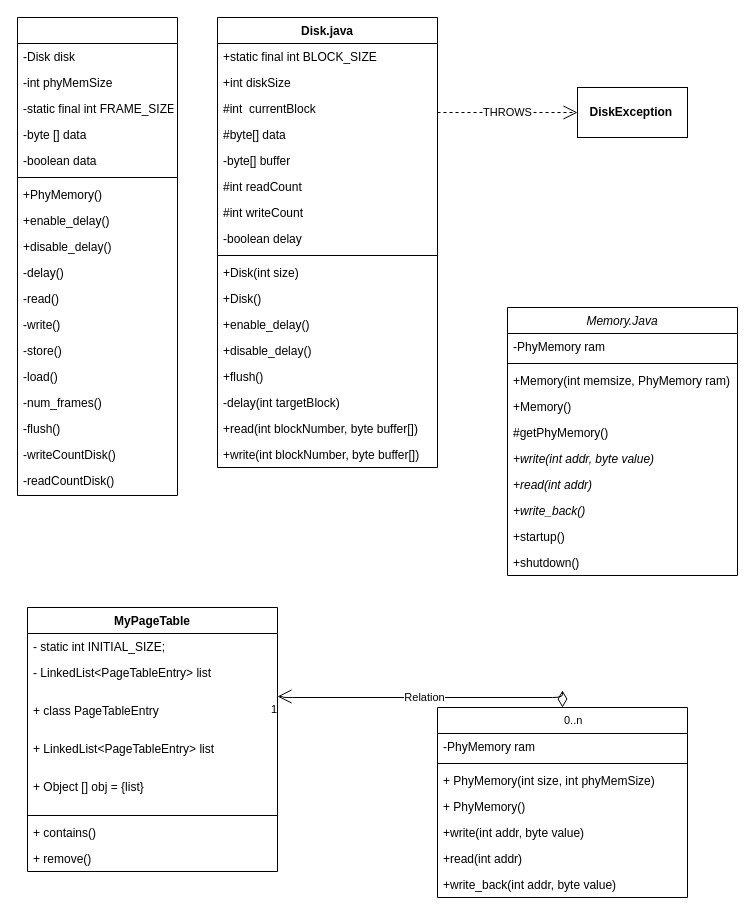
The diagram is 755 pixels wide and 918 high, and some of its shapes have lost their labels. Here are the shapes that lost their labels. From the top down, the box of each, then its label:
(16, 16, 178, 496): PhyMemory.java
(436, 706, 688, 898): VirtMemory.java
